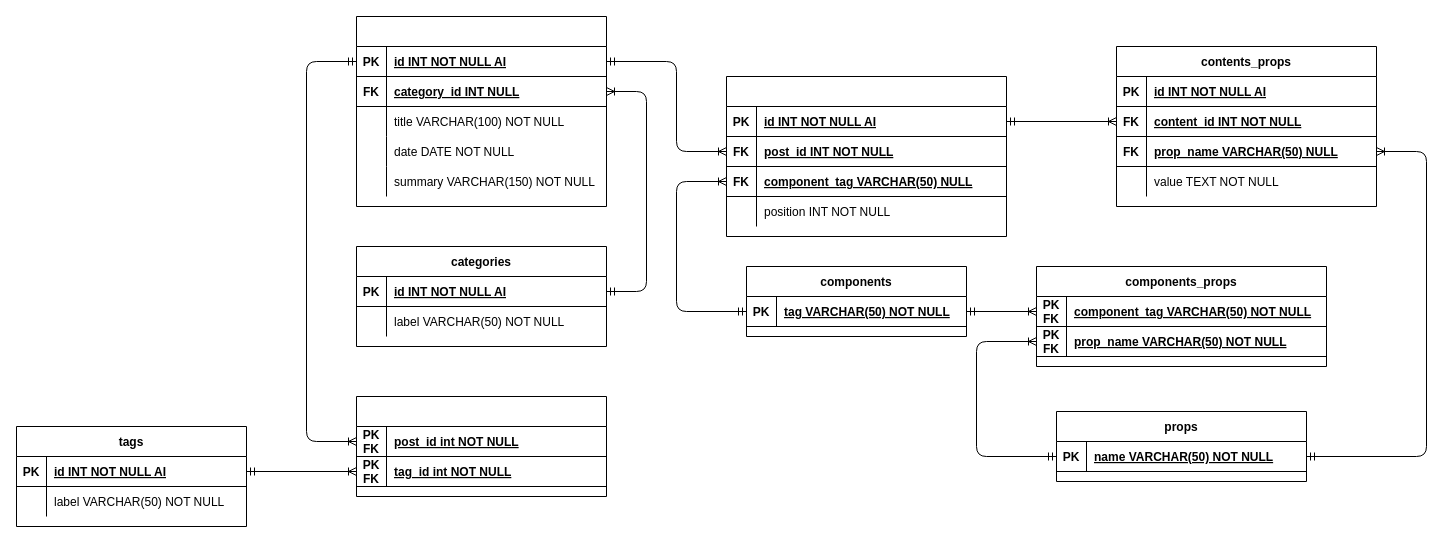
Some shapes in this 1443 by 543 pixel diagram are drawn without their labels. The shapes that lost their labels are listed below. From the top down, each one's box as (x1, y1, x2, y2) in pixels, then its label:
(356, 16, 606, 206): posts
(726, 76, 1006, 236): contents
(356, 396, 606, 496): posts_tags
